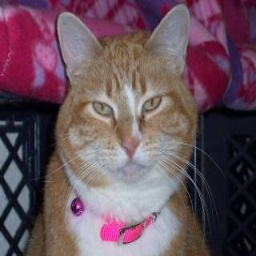cat: (28, 10, 212, 256)
